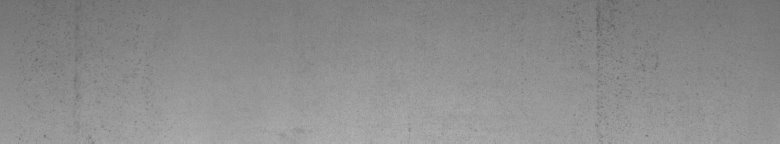ib: (590, 7, 656, 71)
